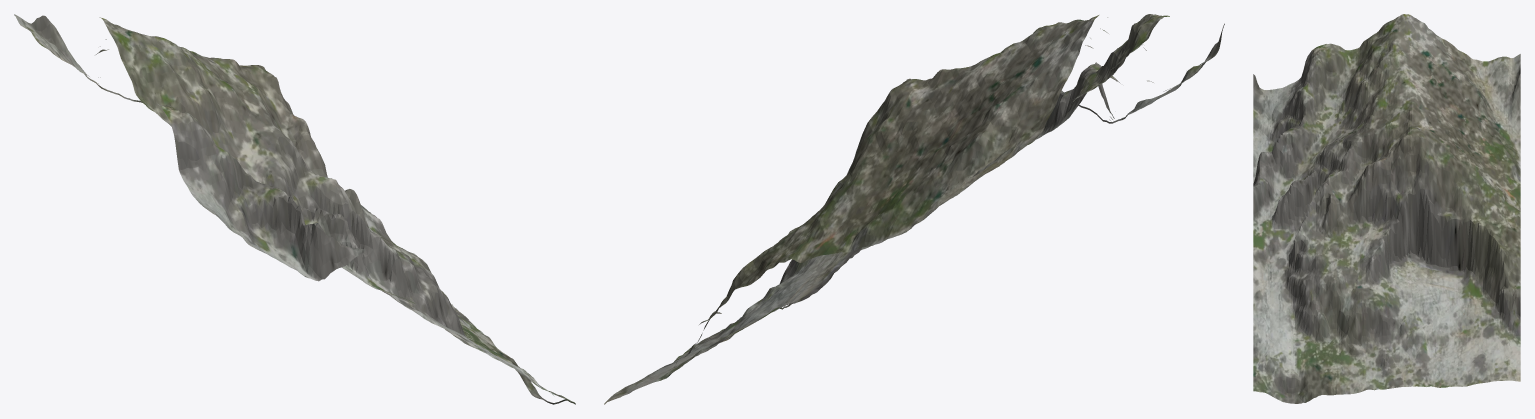
3 renders of one model, left to right at view 1: azimuth 30°, elevation 25°; view 2: azimuth 150°, elevation 25°; view 3: azimuth 270°, elevation 25°, orthographic. The views are drawn at different scales.
Bounding box in the file's own units: 250 × 272 × 241.
Materials: 1 (1 with a texture image).
